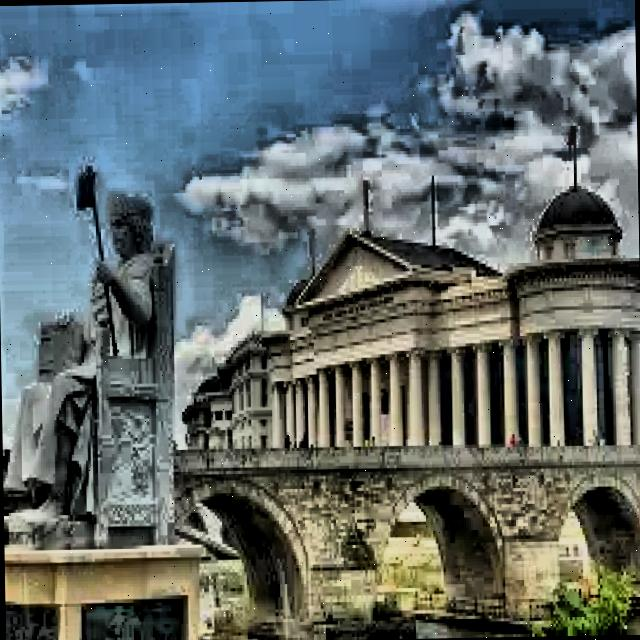stone bridge: (162, 423, 640, 640)
